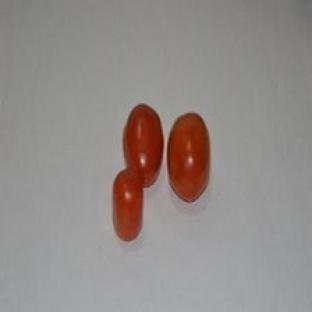Tomato: (168, 113, 210, 201), (123, 105, 162, 186), (113, 169, 143, 240)
